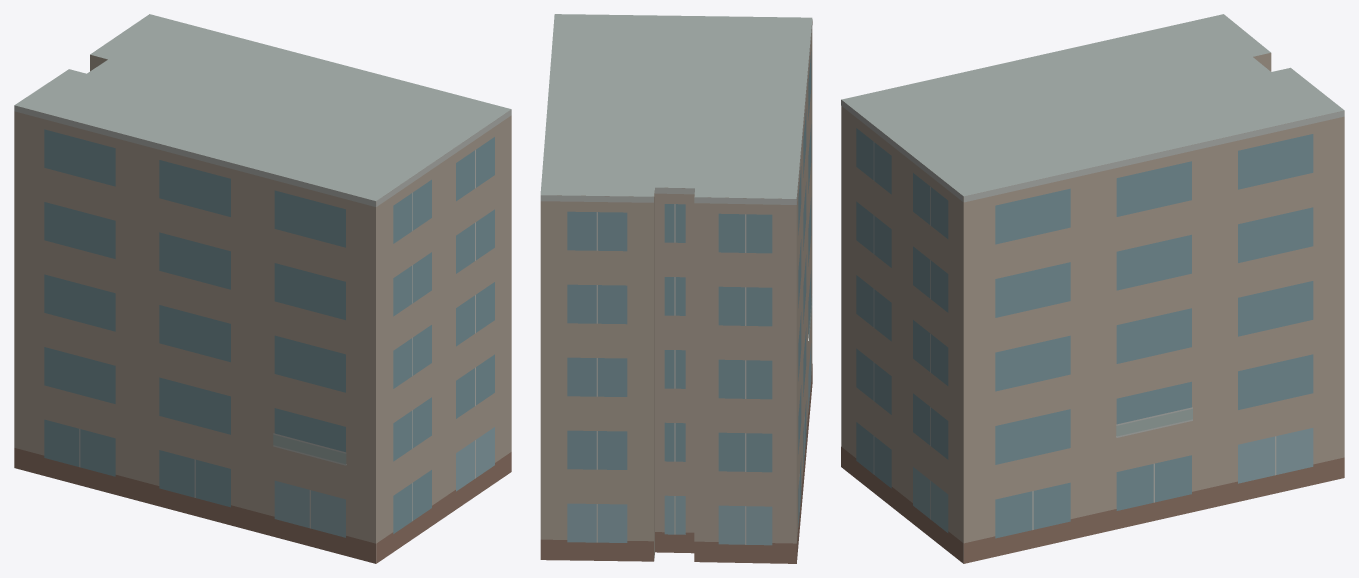
The model's file is survey-upis-32889371.glb.
3 renders of one model, left to right at view 1: azimuth 30°, elevation 25°; view 2: azimuth 150°, elevation 25°; view 3: azimuth 270°, elevation 25°, orthographic.
Visible parts, largest first — view 1: survey-upis-32889371.tmp; view 2: survey-upis-32889371.tmp; view 3: survey-upis-32889371.tmp.
Boxes of the visible parts, <box> form: survey-upis-32889371.tmp: <box>14,14,511,563</box>; survey-upis-32889371.tmp: <box>540,14,812,563</box>; survey-upis-32889371.tmp: <box>841,14,1344,563</box>.
Size of the model in its own units: 15.66 by 14.7 by 18.26.
